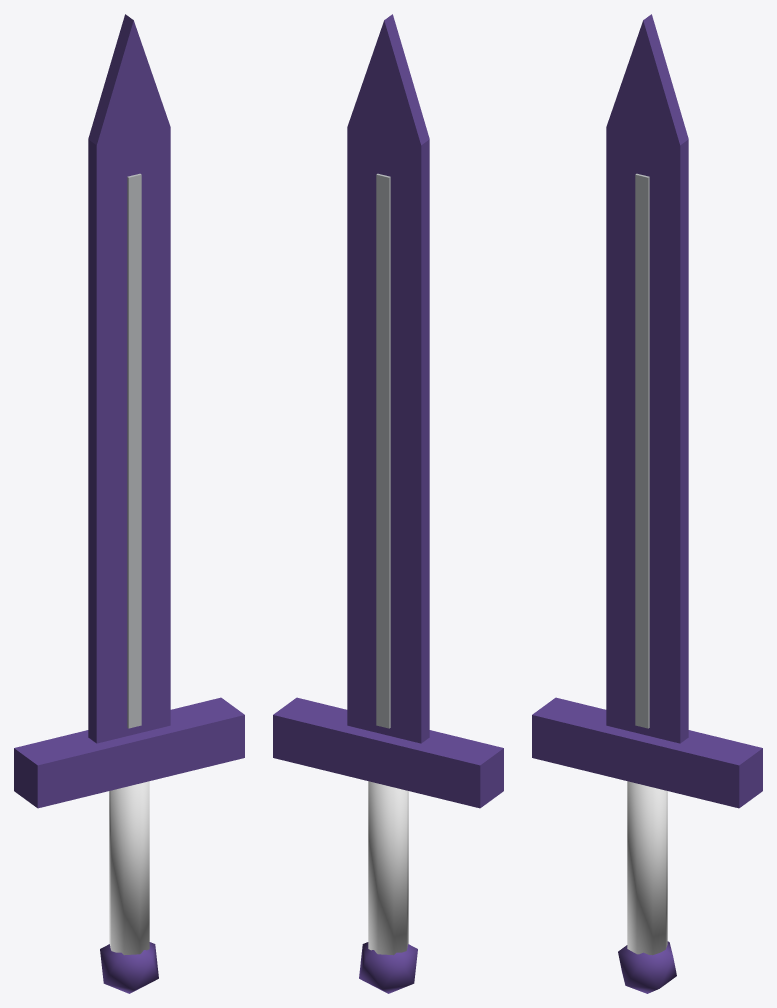
File: umbrite_broadsword.glb
3 views of the same model, side by side, from view 1: azimuth 30°, elevation 25°; view 2: azimuth 150°, elevation 25°; view 3: azimuth 330°, elevation 25° (orthographic).
Parts seen in each view (by area): view 1: umbrite_broadsword_v0; view 2: umbrite_broadsword_v0; view 3: umbrite_broadsword_v0.
Part boxes in pixels (x1,y1,x2,y2): umbrite_broadsword_v0: [14, 14, 244, 993]; umbrite_broadsword_v0: [273, 14, 503, 993]; umbrite_broadsword_v0: [532, 14, 762, 993].
Bounding box in the file's own units: 0.252 × 1.13 × 0.0595.
